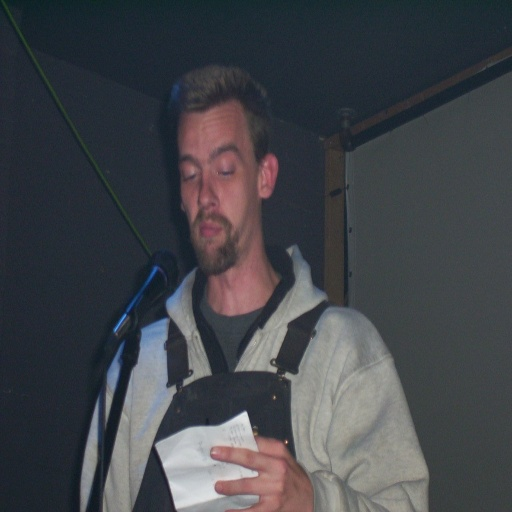hand: (222, 432, 303, 497)
